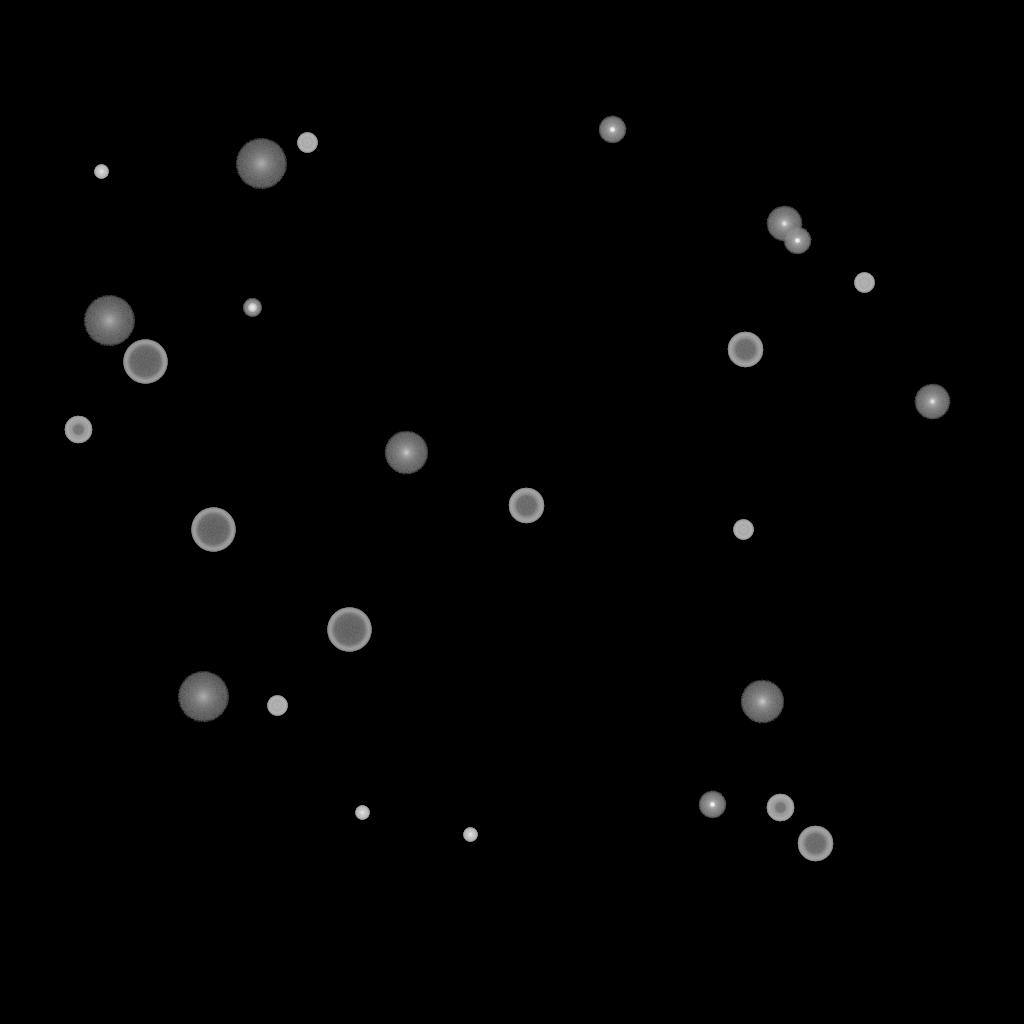depth:-10: (598, 116, 626, 144), (698, 791, 726, 819), (783, 227, 811, 255)
depth:-20: (243, 299, 261, 317)
depth:-30: (94, 165, 108, 179), (355, 806, 369, 820), (463, 828, 477, 842)
depth:-40: (297, 133, 317, 153), (267, 696, 287, 716), (854, 273, 874, 293), (733, 520, 753, 540)
depth:-50: (64, 416, 92, 444), (766, 794, 794, 822)
depth:-60: (797, 826, 833, 862), (508, 488, 544, 524), (727, 332, 763, 368)
depth:-70: (327, 608, 371, 652), (191, 508, 235, 552), (123, 340, 167, 384)
depth:0: (766, 206, 802, 242), (914, 384, 950, 420)
depth:10: (740, 680, 784, 724), (384, 431, 428, 475)
depth:20: (235, 139, 287, 189), (83, 296, 135, 346), (177, 672, 229, 722)
